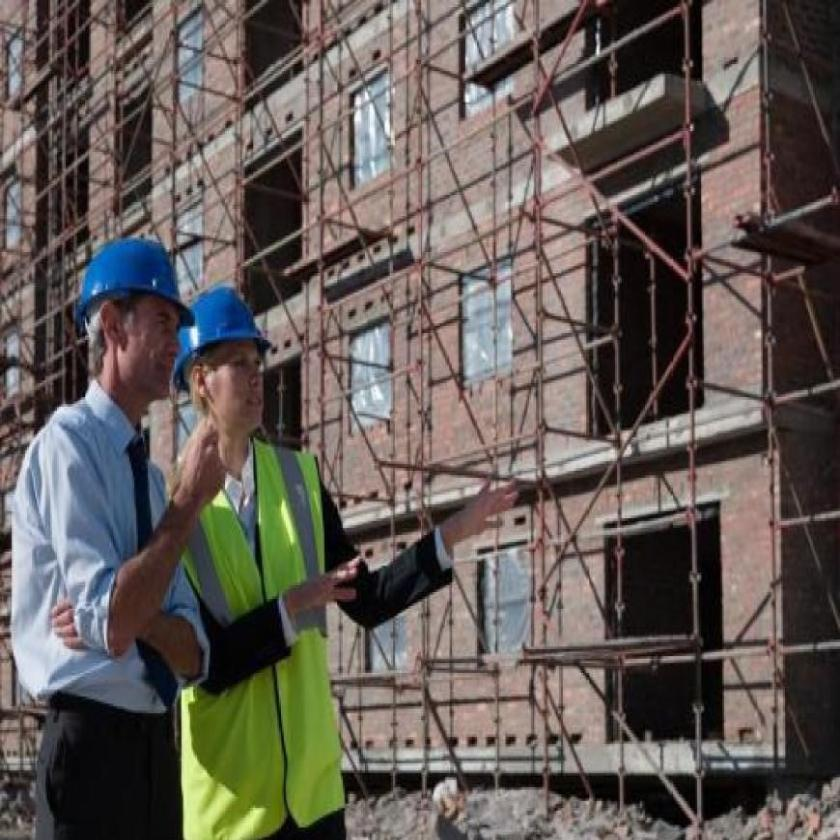Con_casco: (70, 230, 200, 432), (175, 282, 275, 464)
